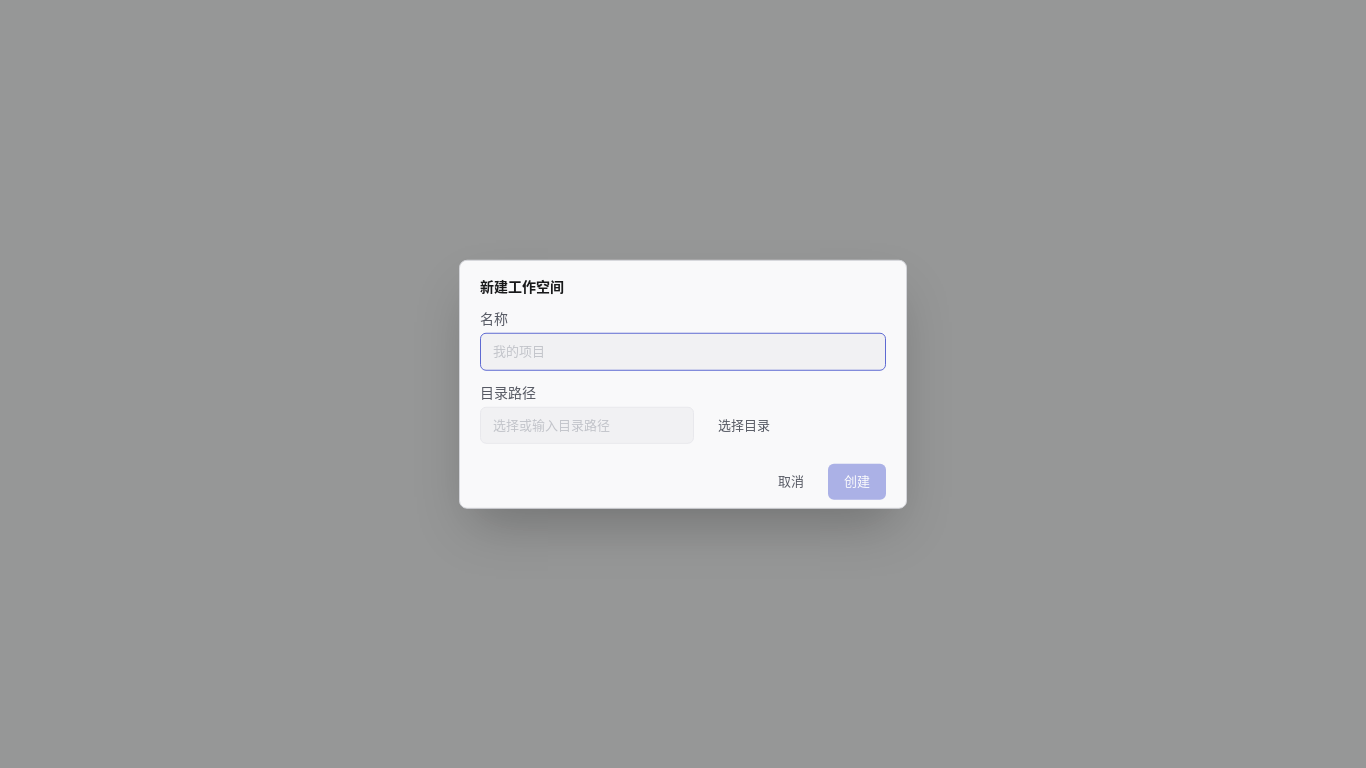
D7 目录不存在确认弹层 › 分支①：probe 不存在 → 确认弹层（resolve 绝对路径 + git init 披露）→ 取消 → 零 create
Type "星陨谷" into the field labelled "名称" at (683, 352), box [480,333,886,370]
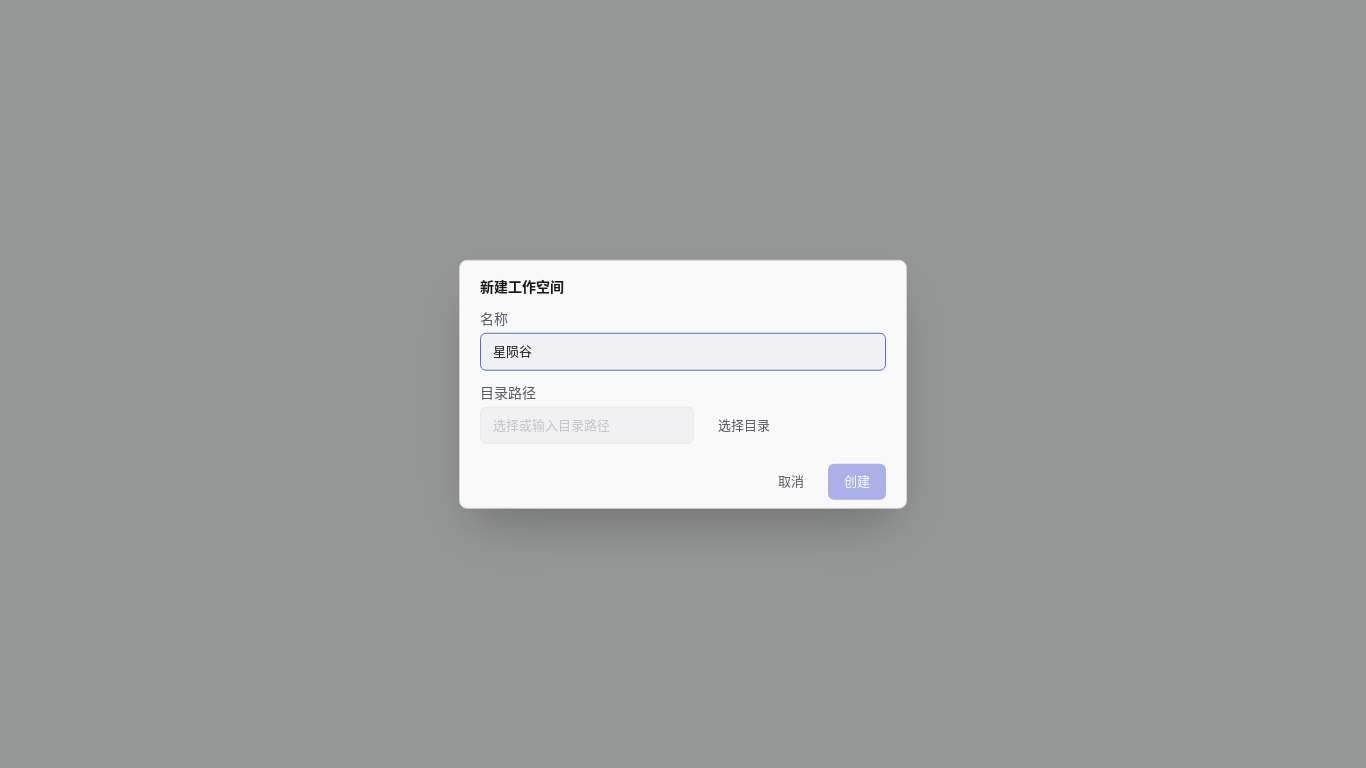
Type "/tmp/typo-not-exist" into the field with placeholder "选择或输入目录路径" at (587, 425), box [480,406,694,444]
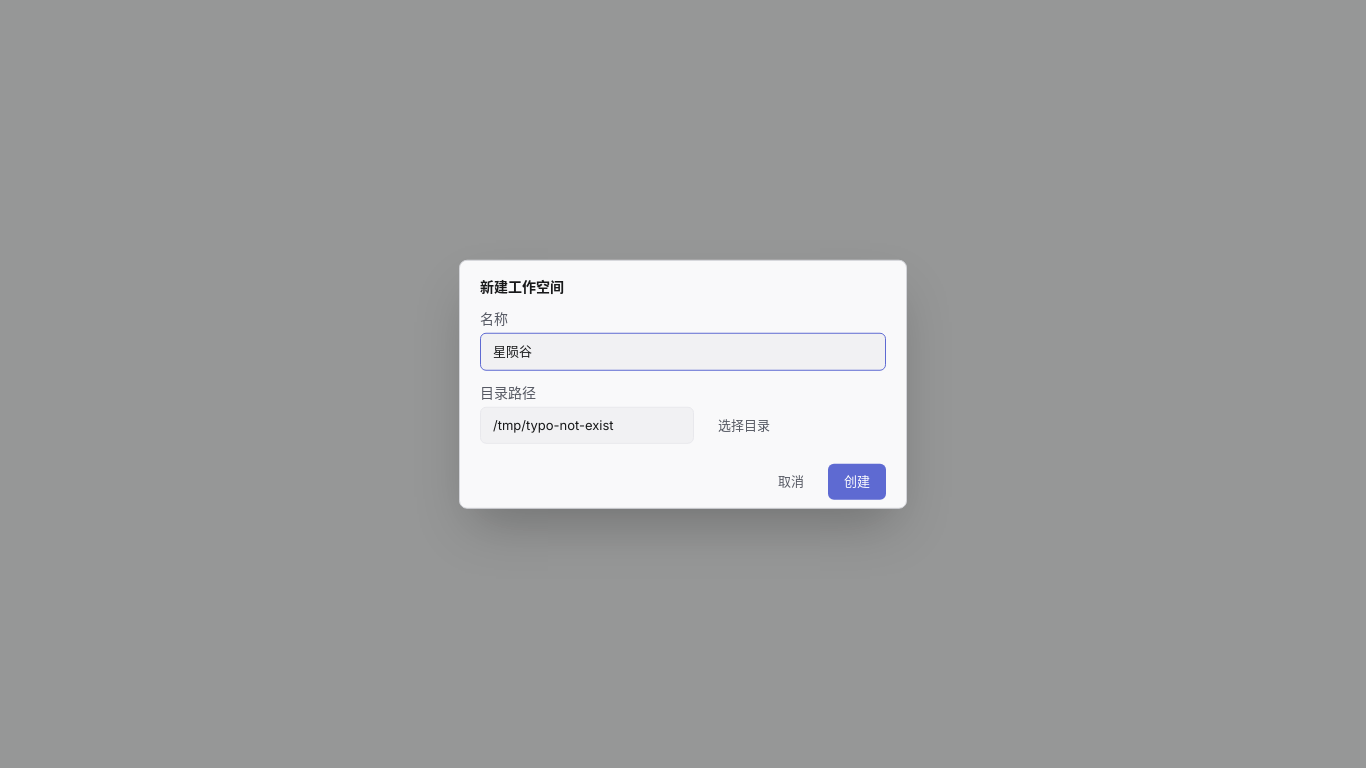
Click the button "创建" at (857, 482), box [828,464,886,499]
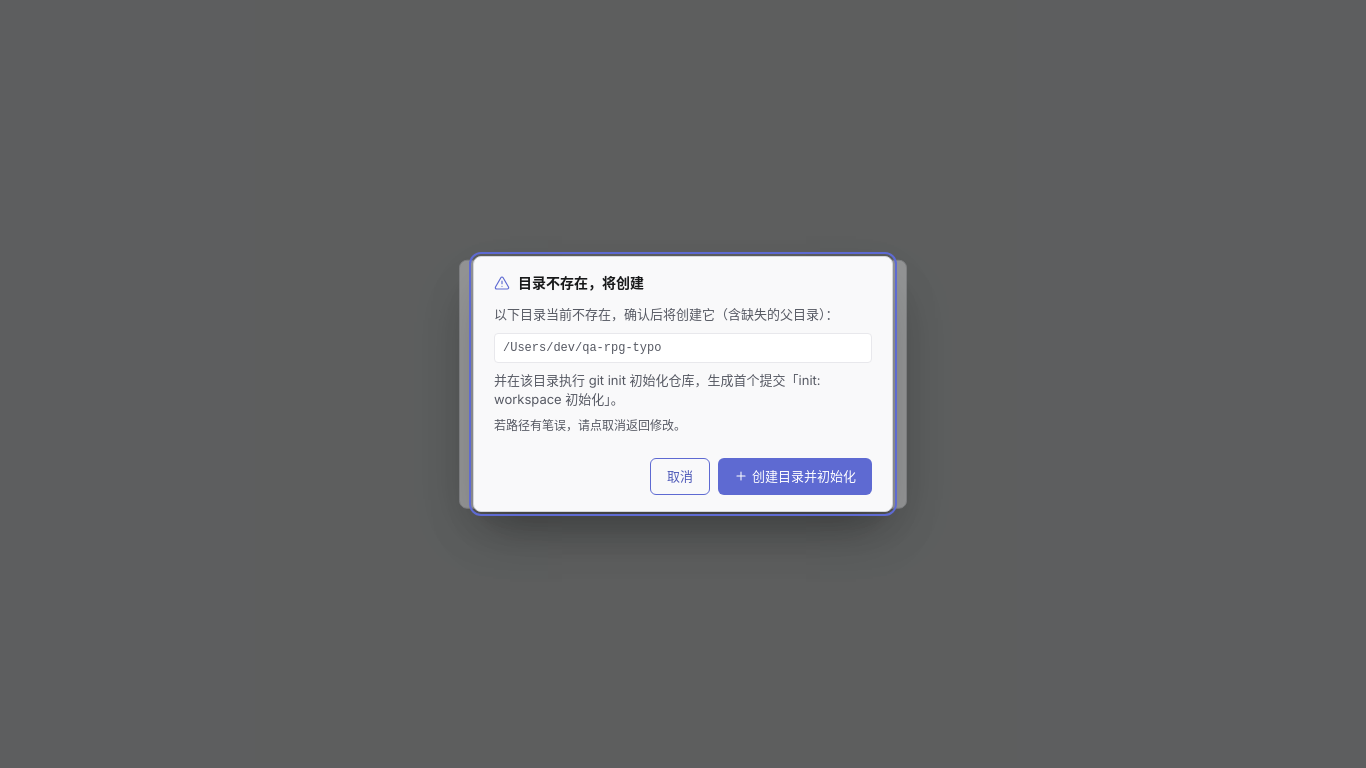
Check: the dialog named "确认创建目录" is shown, box [473,256,893,512]
Check: the text "/Users/dev/qa-rpg-typo" is shown, box [494,332,872,362]
Check: the text "git init" is shown, box [494,372,821,407]
Click the button "取消" at (680, 476), box [650,458,710,495]
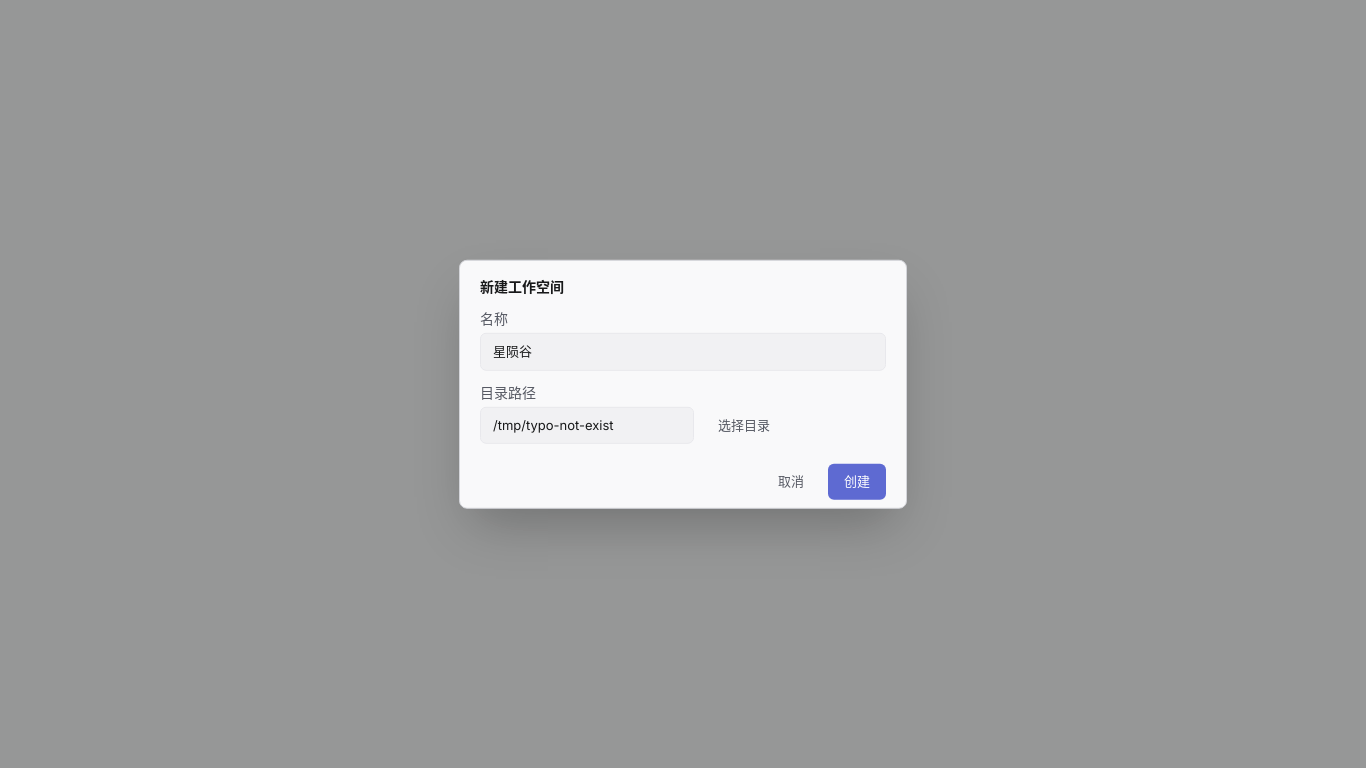
Check: the dialog "确认创建目录" is gone
